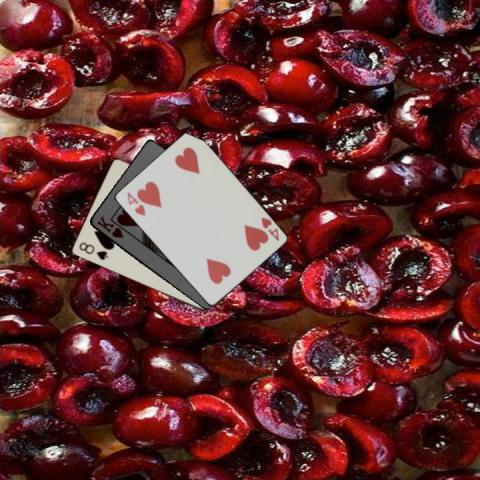4h: (124, 189, 147, 217), (258, 214, 281, 242)
8s: (76, 240, 110, 262)
Kh: (93, 213, 125, 240)
